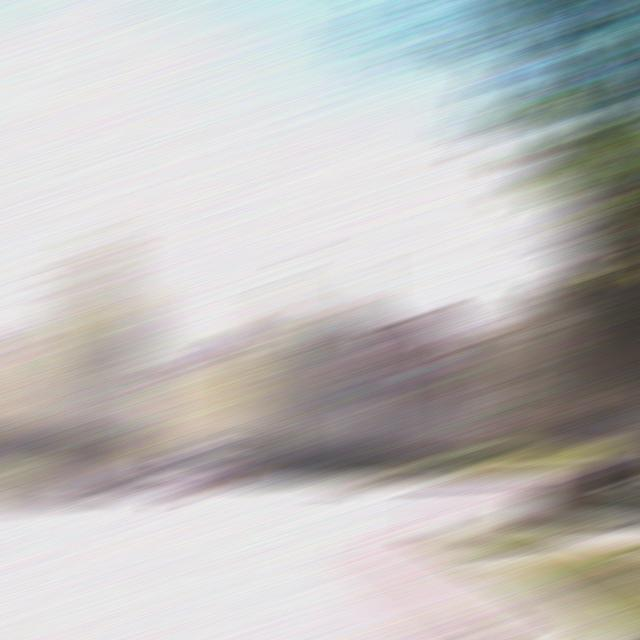stop: (394, 314, 458, 363)
